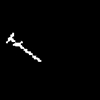double_crochet: (6, 33, 40, 61)
